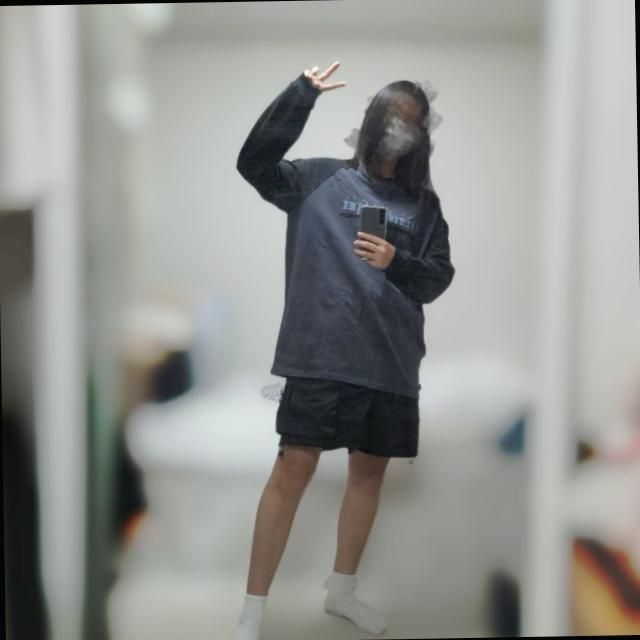longsleeve: (235, 70, 462, 400)
shortpants: (275, 368, 422, 462)
